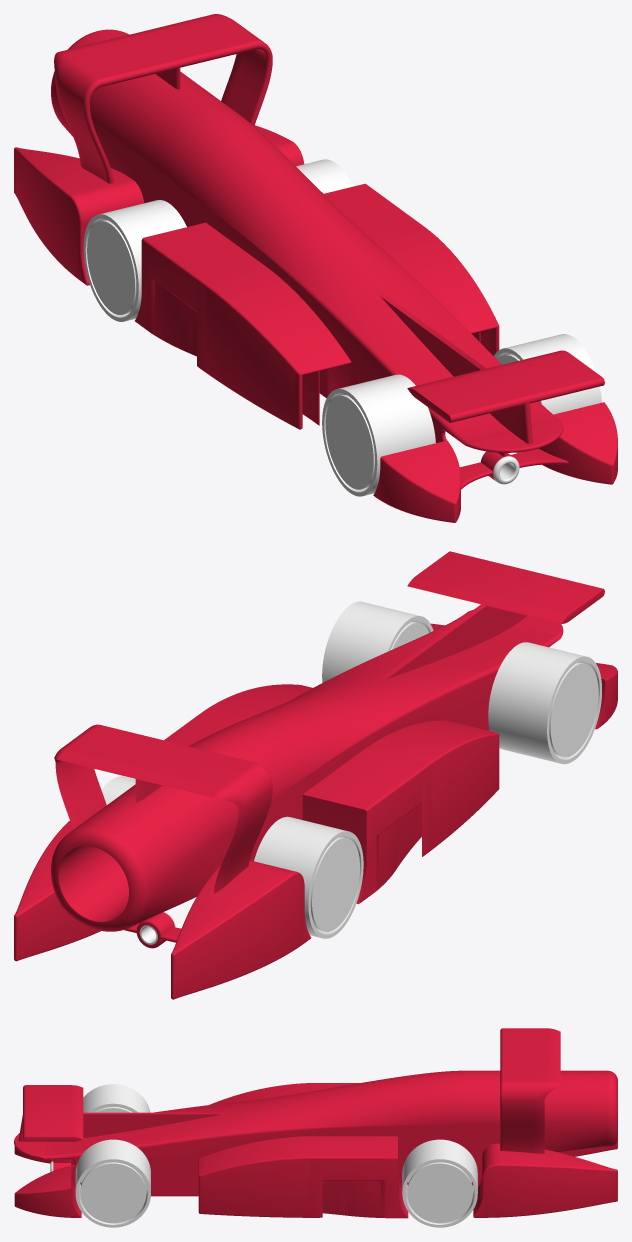
3 renders of one model, top to bottom at view 1: azimuth 30°, elevation 25°; view 2: azimuth 150°, elevation 25°; view 3: azimuth 270°, elevation 25°, orthographic. The views are drawn at different scales.
Visible parts, largest first — view 1: 10 P1.1 Assembly, 10 P1.1 Assembly.003, 10 P1.1 Assembly.001, 10 P1.1 Assembly.004, 10 P1.1 Assembly.002; view 2: 10 P1.1 Assembly, 10 P1.1 Assembly.003, 10 P1.1 Assembly.001, 10 P1.1 Assembly.004; view 3: 10 P1.1 Assembly, 10 P1.1 Assembly.002, 10 P1.1 Assembly.004, 10 P1.1 Assembly.003.
Part boxes in pixels (x1=…): 10 P1.1 Assembly: x1=14, y1=14, x2=617, y2=522; 10 P1.1 Assembly.003: x1=322, y1=374, x2=435, y2=496; 10 P1.1 Assembly.001: x1=83, y1=200, x2=186, y2=321; 10 P1.1 Assembly.004: x1=494, y1=334, x2=601, y2=453; 10 P1.1 Assembly.002: x1=296, y1=159, x2=352, y2=193; 10 P1.1 Assembly: x1=14, y1=551, x2=617, y2=999; 10 P1.1 Assembly.003: x1=488, y1=642, x2=601, y2=764; 10 P1.1 Assembly.001: x1=254, y1=816, x2=363, y2=938; 10 P1.1 Assembly.004: x1=322, y1=601, x2=433, y2=682; 10 P1.1 Assembly: x1=14, y1=1028, x2=617, y2=1218; 10 P1.1 Assembly.002: x1=402, y1=1139, x2=477, y2=1227; 10 P1.1 Assembly.004: x1=75, y1=1139, x2=150, y2=1227; 10 P1.1 Assembly.003: x1=83, y1=1084, x2=150, y2=1112.
Bounding box in the file's own units: 10.93 × 9.15 × 37.12.
